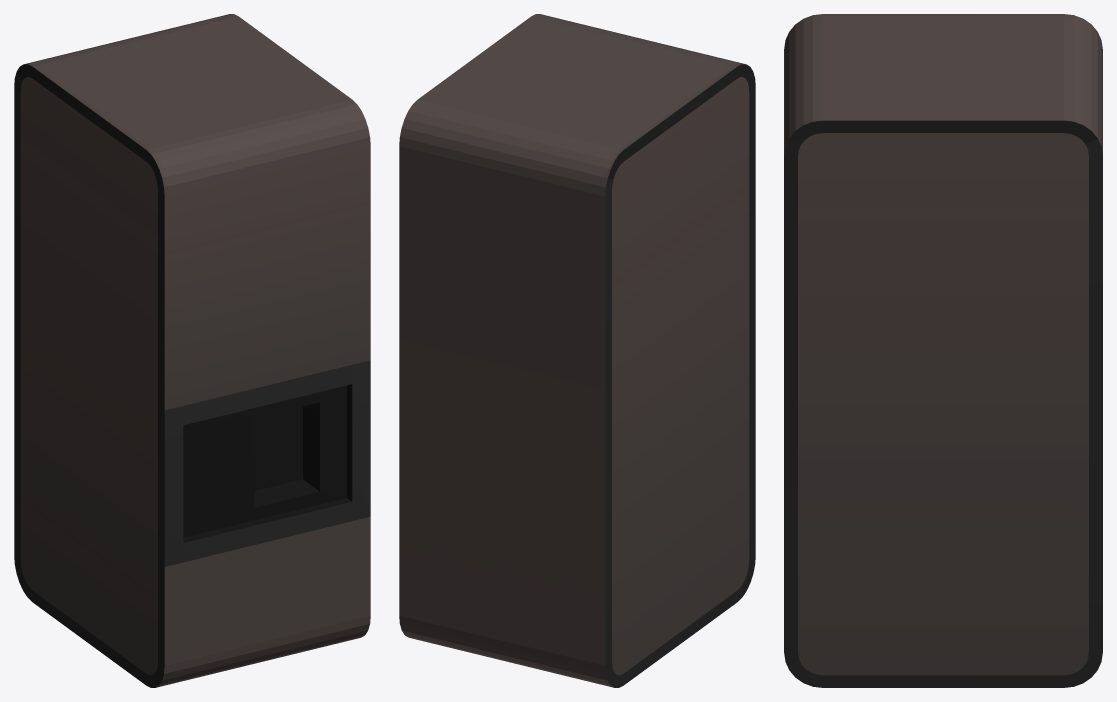
File: coffee_automat.fbx
3 renders of one model, left to right at view 1: azimuth 30°, elevation 25°; view 2: azimuth 150°, elevation 25°; view 3: azimuth 270°, elevation 25°, orthographic. The views are drawn at different scales.
Visible parts, largest first — view 1: Coffee_automat; view 2: Coffee_automat; view 3: Coffee_automat.
Part boxes in pixels (box(x1,y1,x2,y2)): Coffee_automat: box(14, 14, 370, 687); Coffee_automat: box(399, 14, 755, 687); Coffee_automat: box(784, 14, 1102, 687).
Size of the model in its own units: 109 by 271 by 138.
